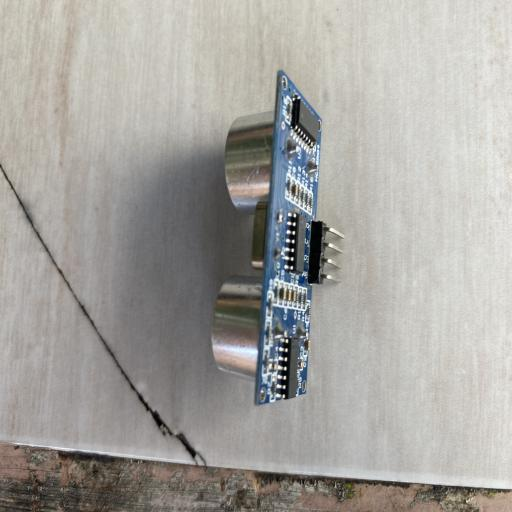Ultrasonic Sensor: (212, 69, 346, 407)
